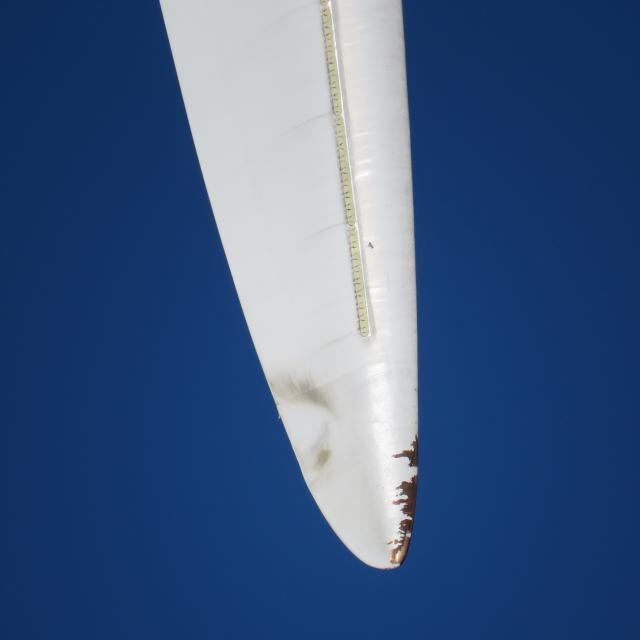damage: (380, 426, 431, 580)
